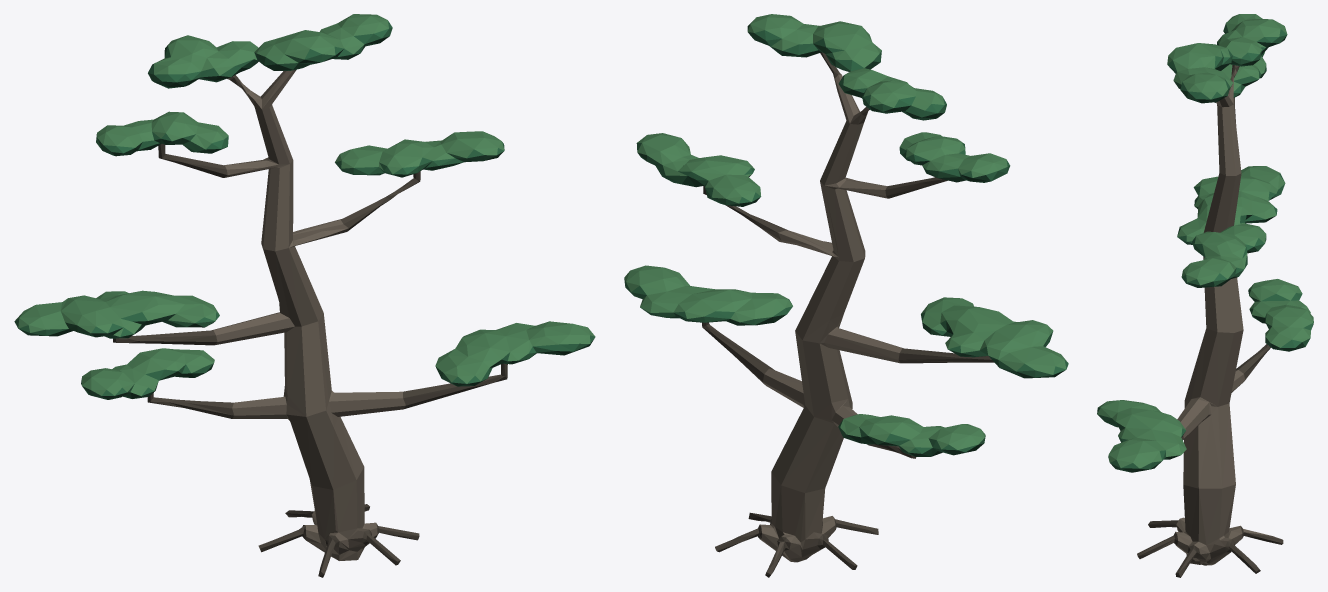
The model's file is ancient-pine-1997-lod1.glb.
3 views of the same model, side by side, from view 1: azimuth 30°, elevation 25°; view 2: azimuth 150°, elevation 25°; view 3: azimuth 270°, elevation 25° (orthographic). The views are drawn at different scales.
Visible parts, largest first — view 1: n12.005, n8.005, n9.005, n11.005, n10.005; view 2: n12.005, n8.005, n11.005, n9.005, n10.005; view 3: n12.005, n8.005, n11.005, n9.005, n10.005.
Boxes of the visible parts, left/top/right/bottom form: n12.005: left=15, top=14, right=594, bottom=395; n8.005: left=212, top=70, right=405, bottom=560; n9.005: left=113, top=69, right=507, bottom=577; n11.005: left=14, top=21, right=595, bottom=395; n10.005: left=19, top=36, right=594, bottom=399; n12.005: left=624, top=14, right=1067, bottom=452; n8.005: left=760, top=74, right=902, bottom=562; n11.005: left=624, top=24, right=1068, bottom=453; n9.005: left=702, top=52, right=993, bottom=577; n10.005: left=626, top=35, right=1065, bottom=456; n12.005: left=1097, top=14, right=1313, bottom=468; n8.005: left=1153, top=69, right=1269, bottom=565; n11.005: left=1097, top=23, right=1313, bottom=469; n9.005: left=1137, top=65, right=1283, bottom=577; n10.005: left=1106, top=36, right=1313, bottom=472.
Size of the model in its own units: 5.36 by 5.43 by 2.15.
